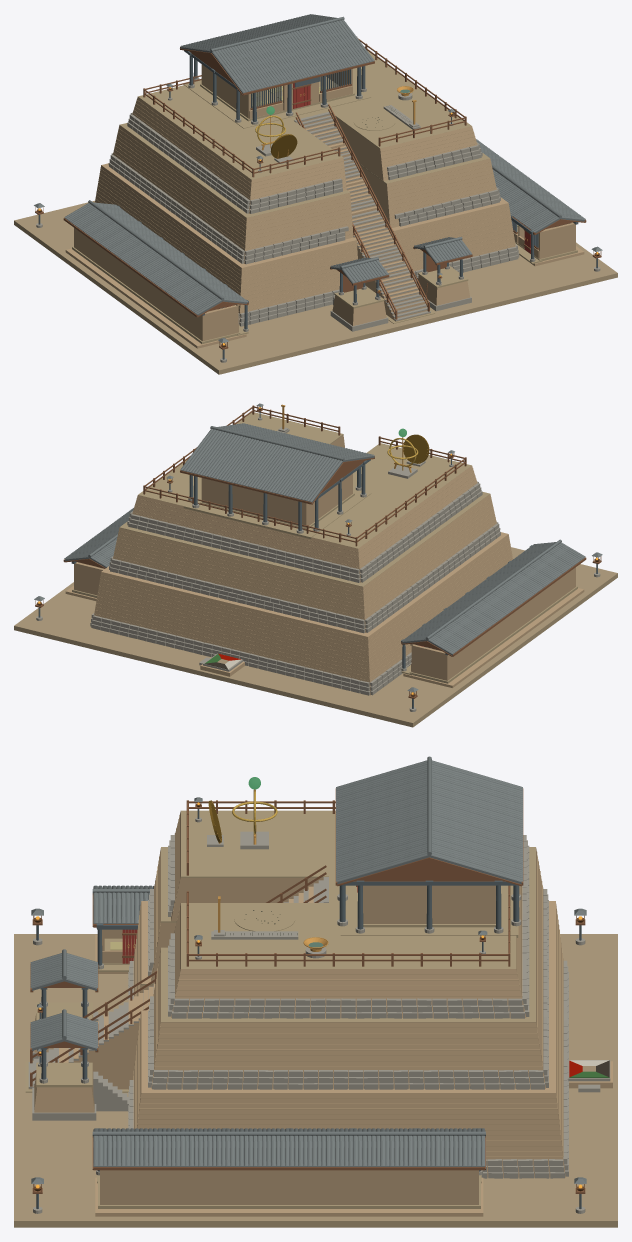
The model's file is guanxing.glb.
3 renders of one model, top to bottom at view 1: azimuth 30°, elevation 25°; view 2: azimuth 150°, elevation 25°; view 3: azimuth 270°, elevation 25°, orthographic. The views are drawn at different scales.
Parts seen in each view (by area): view 1: guanxing; view 2: guanxing; view 3: guanxing.
Part boxes in pixels (left/top/right/bottom): guanxing: left=14, top=14, right=617, bottom=374; guanxing: left=14, top=403, right=617, bottom=727; guanxing: left=14, top=756, right=617, bottom=1227.
Bounding box in the file's own units: 19 × 8.64 × 16.9.
